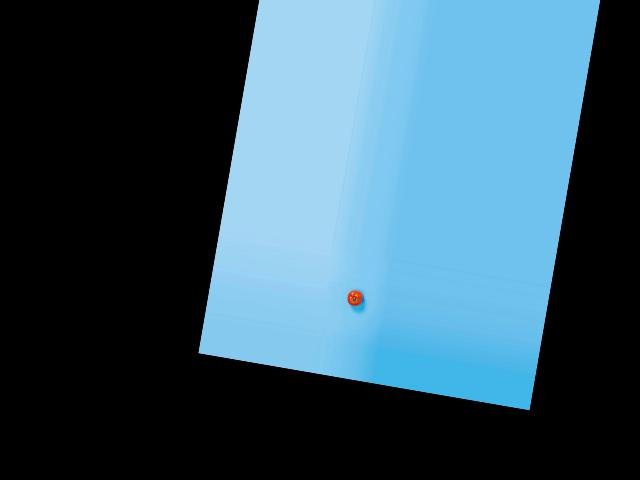tomato: (345, 289, 363, 308)
